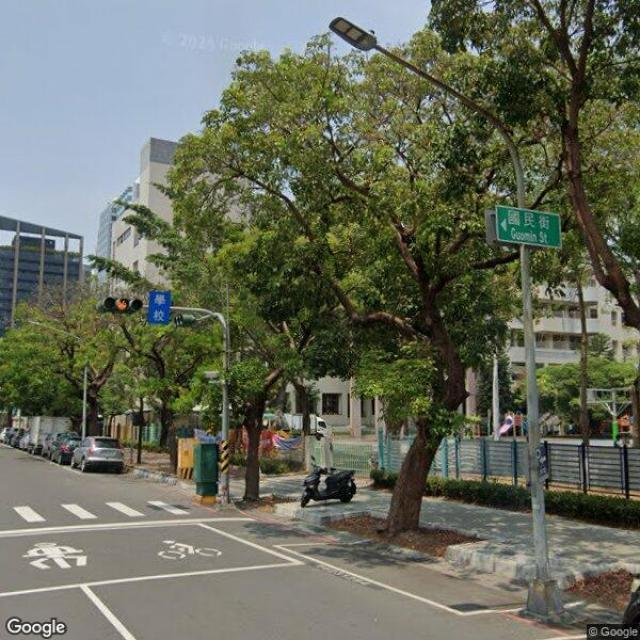Legalparking: (3, 408, 129, 480)
illegalparking: (291, 451, 361, 518)
